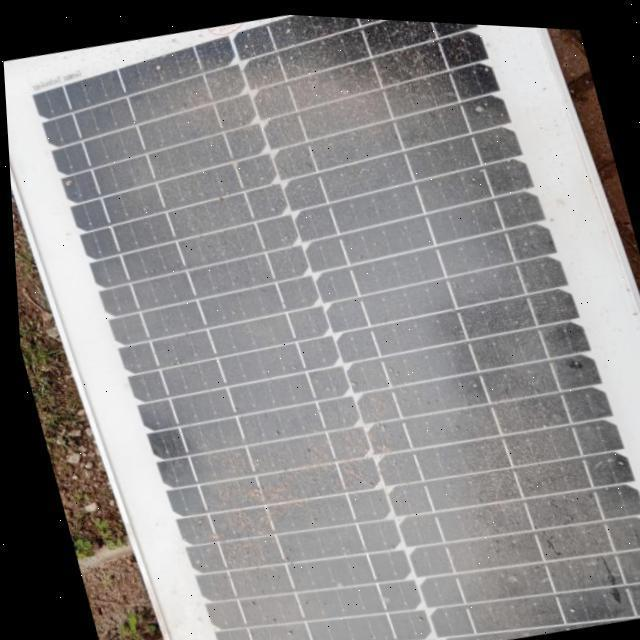Surface Contaminant: (28, 17, 640, 640)
